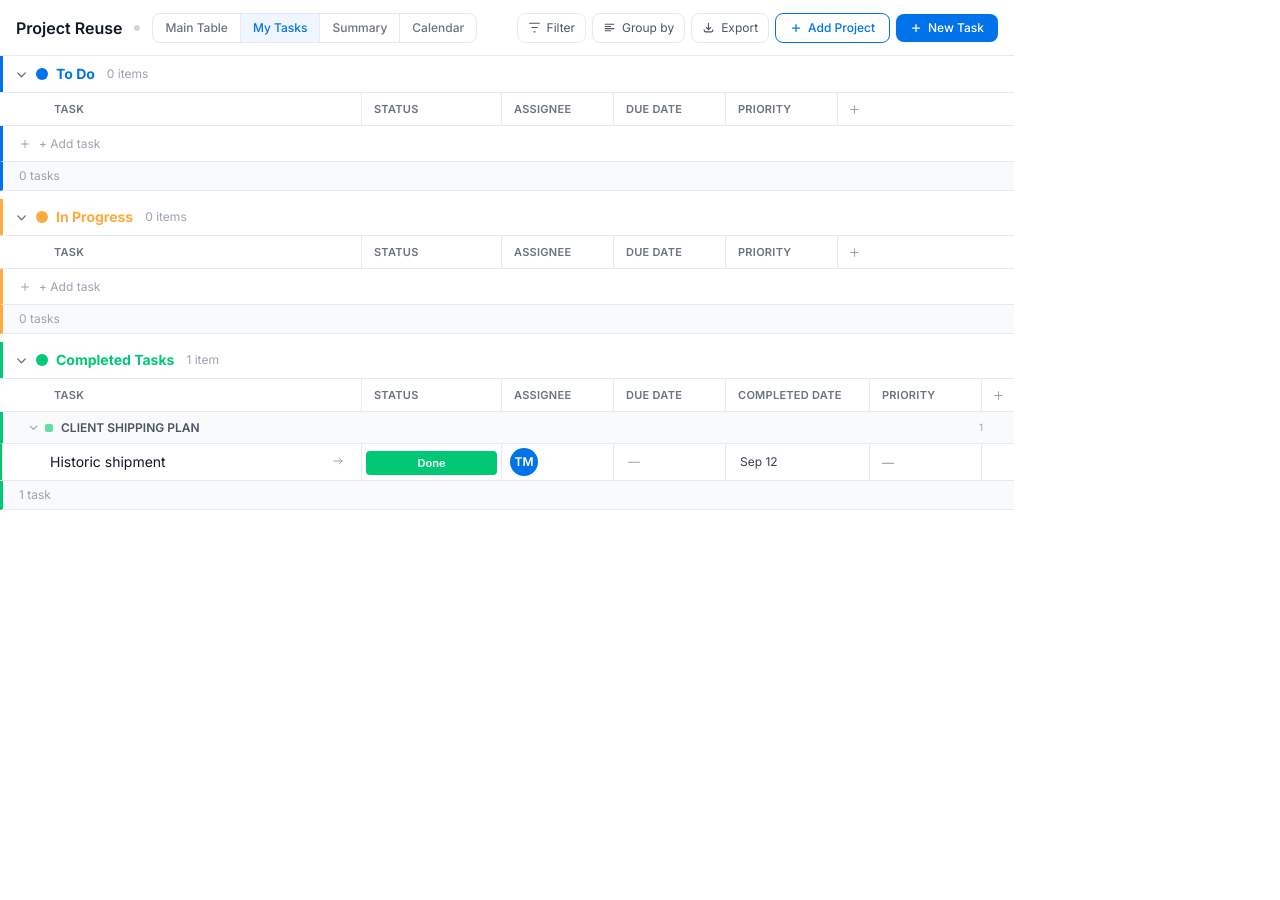
Test: selecting an existing project for new tasks › shows one normalized name across active and completed groups and reuses an empty To Do project
Click the button "Add Project" at {"x": 833, "y": 28}, box x1=775 y1=12 x2=890 y2=42
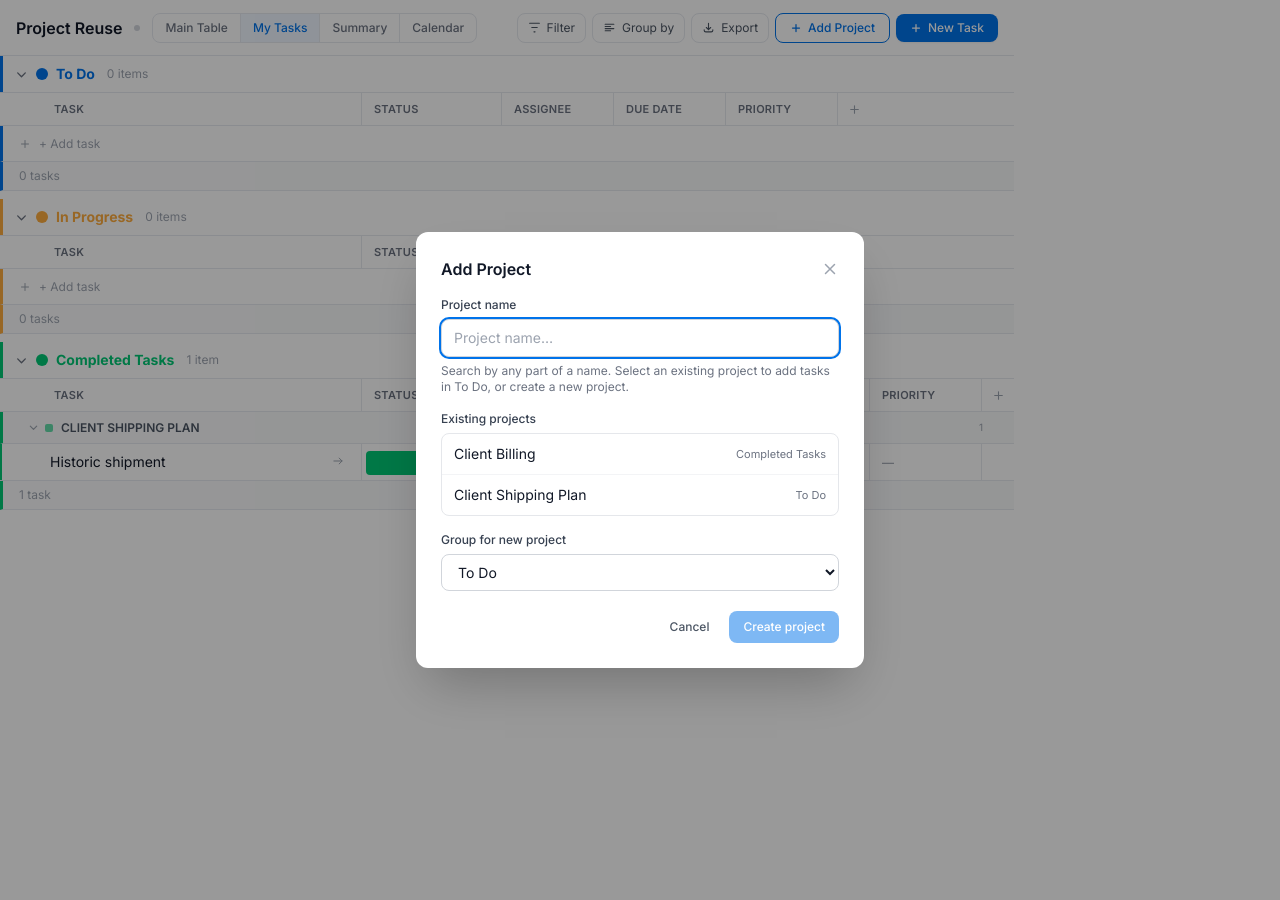
expect the number of buttons named "Select project" is 2: met, box x1=442 y1=434 x2=838 y2=475; x1=442 y1=475 x2=838 y2=515
Type "sHiP" into the field labelled "Project name" at {"x": 640, "y": 338}, box x1=441 y1=319 x2=839 y2=357
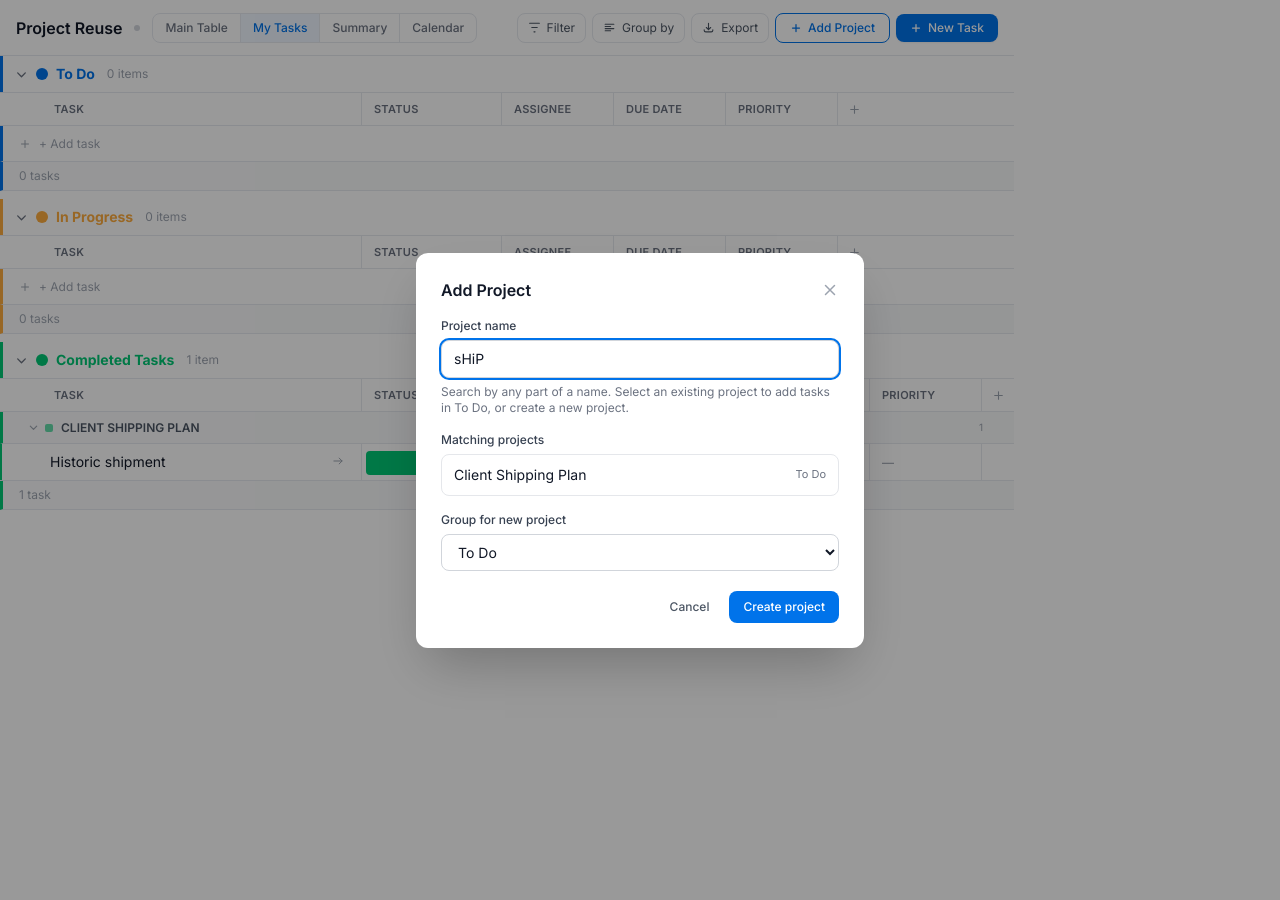
expect the number of buttons named "Select project" is 1: met, box x1=442 y1=454 x2=838 y2=494
Replace the text in the field labelled "Project name" with "  CLIENT   shipping plan  " at {"x": 640, "y": 358}, box x1=441 y1=340 x2=839 y2=378
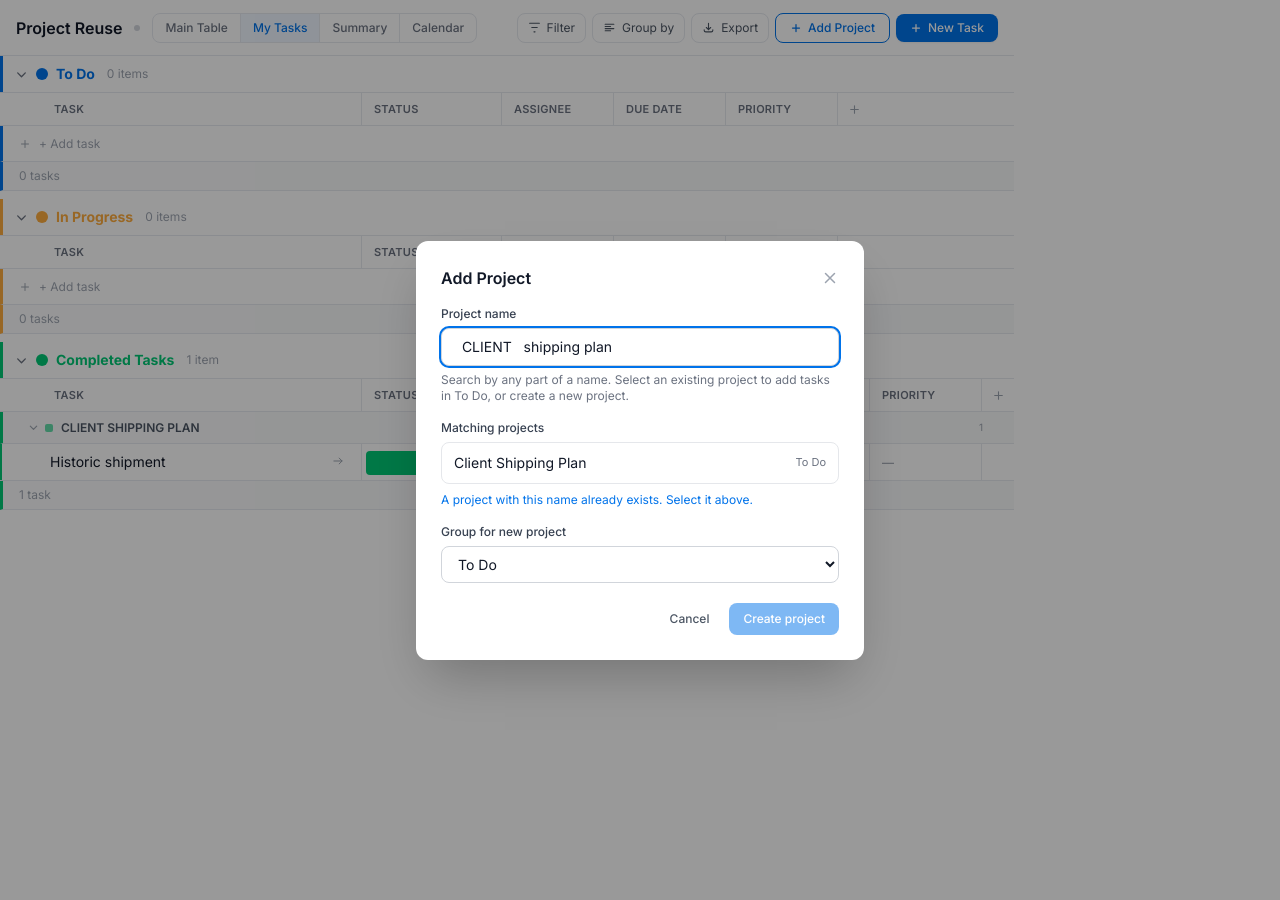
expect the button "Create project" is disabled: met, box x1=729 y1=602 x2=839 y2=634
Click the button with aria-label "Select project Client Shipping Plan in To Do" at {"x": 520, "y": 462}, box x1=442 y1=442 x2=838 y2=482
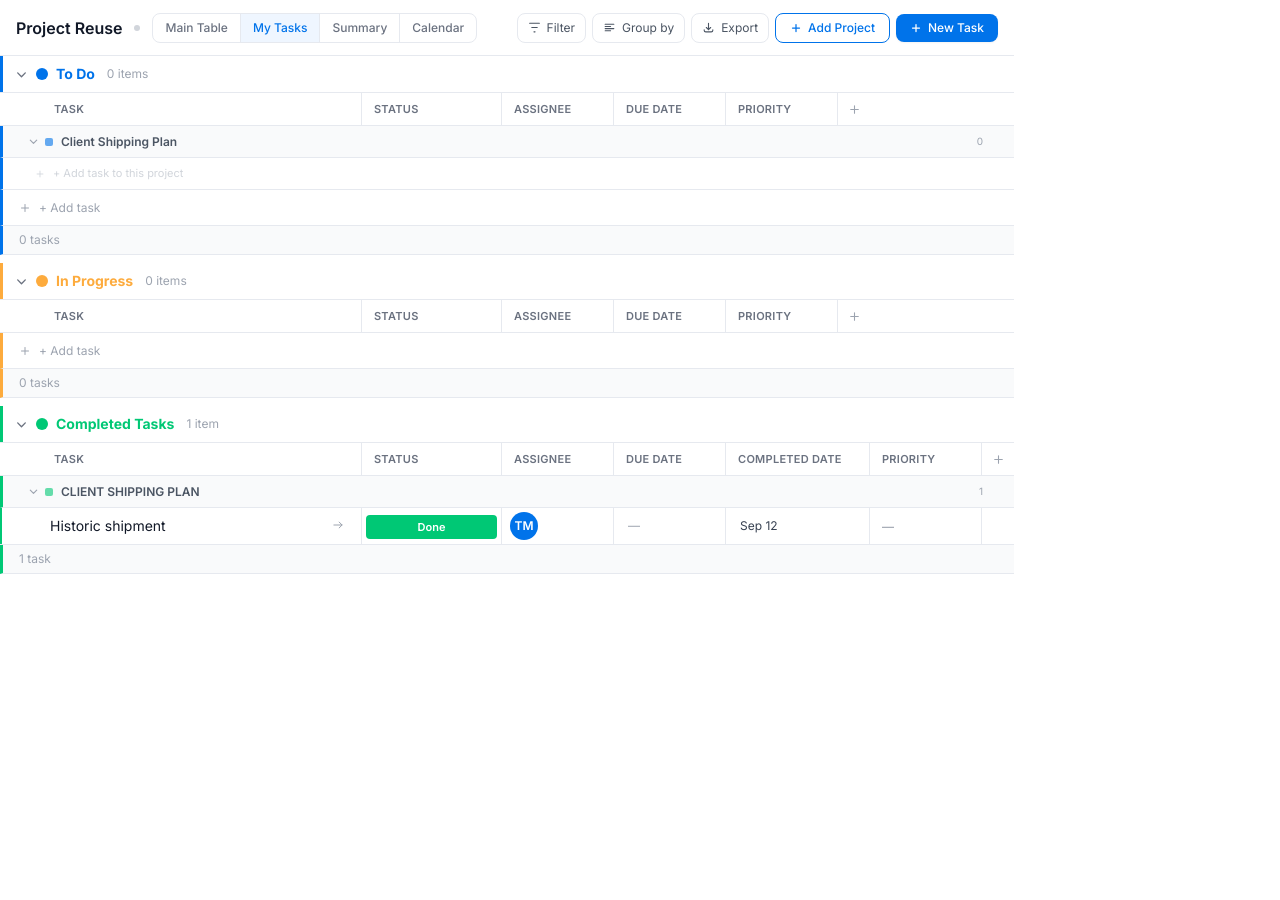
expect the text "+ Add task to this project" is shown: met, box x1=53 y1=165 x2=183 y2=182
